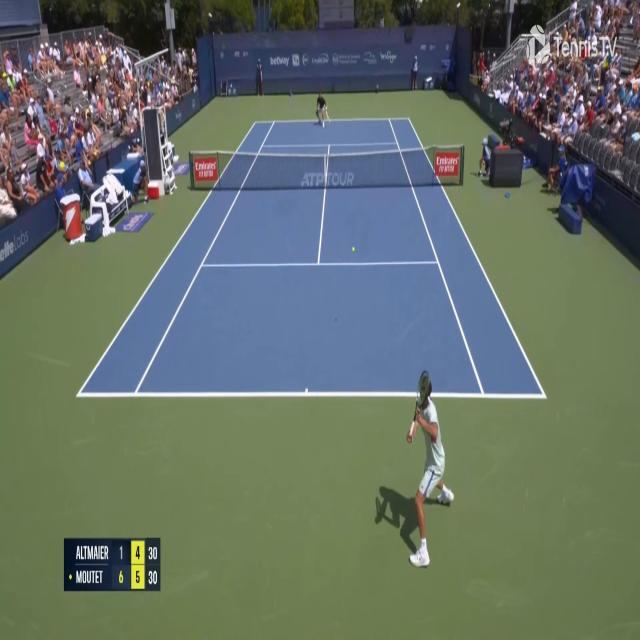tennis-player: (403, 364, 456, 570), (314, 89, 329, 128)
